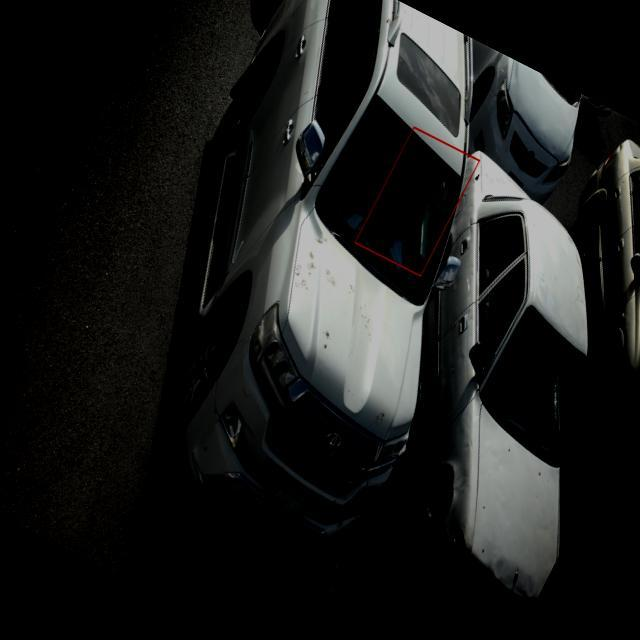windshield: (312, 94, 457, 306), (474, 298, 588, 474)
